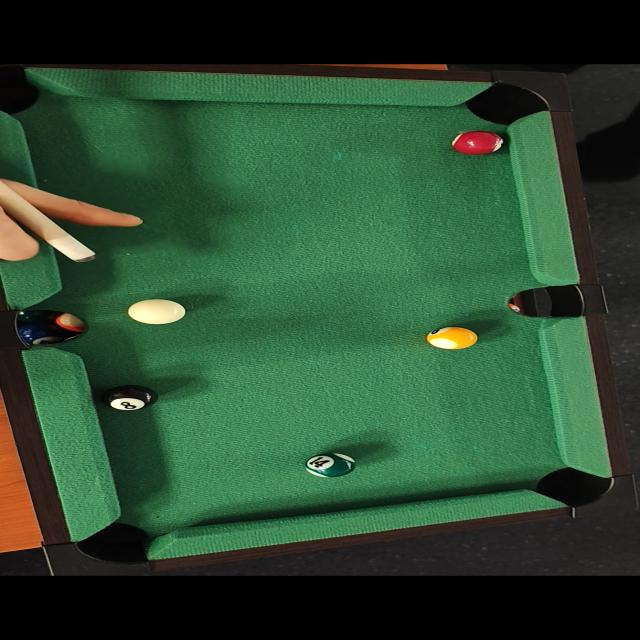cue ball: (124, 297, 189, 328)
other: (93, 384, 164, 412), (420, 324, 486, 351), (450, 129, 506, 159), (299, 452, 358, 479)
